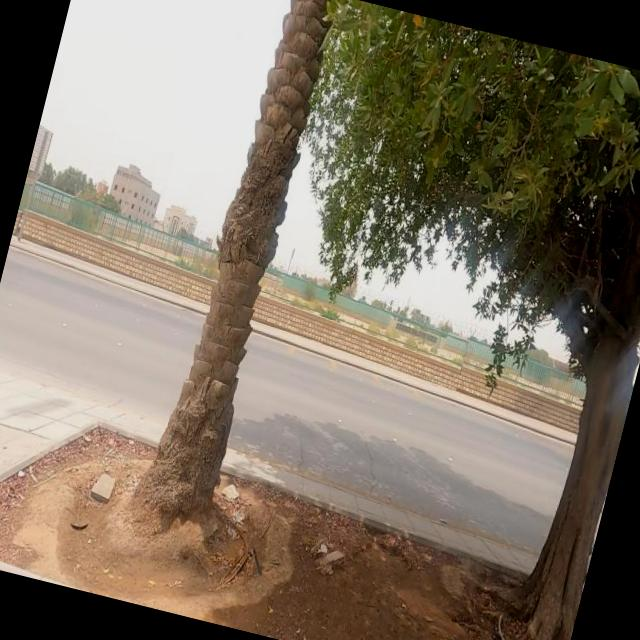debris: (154, 430, 290, 584), (51, 440, 147, 548), (274, 502, 374, 603)
